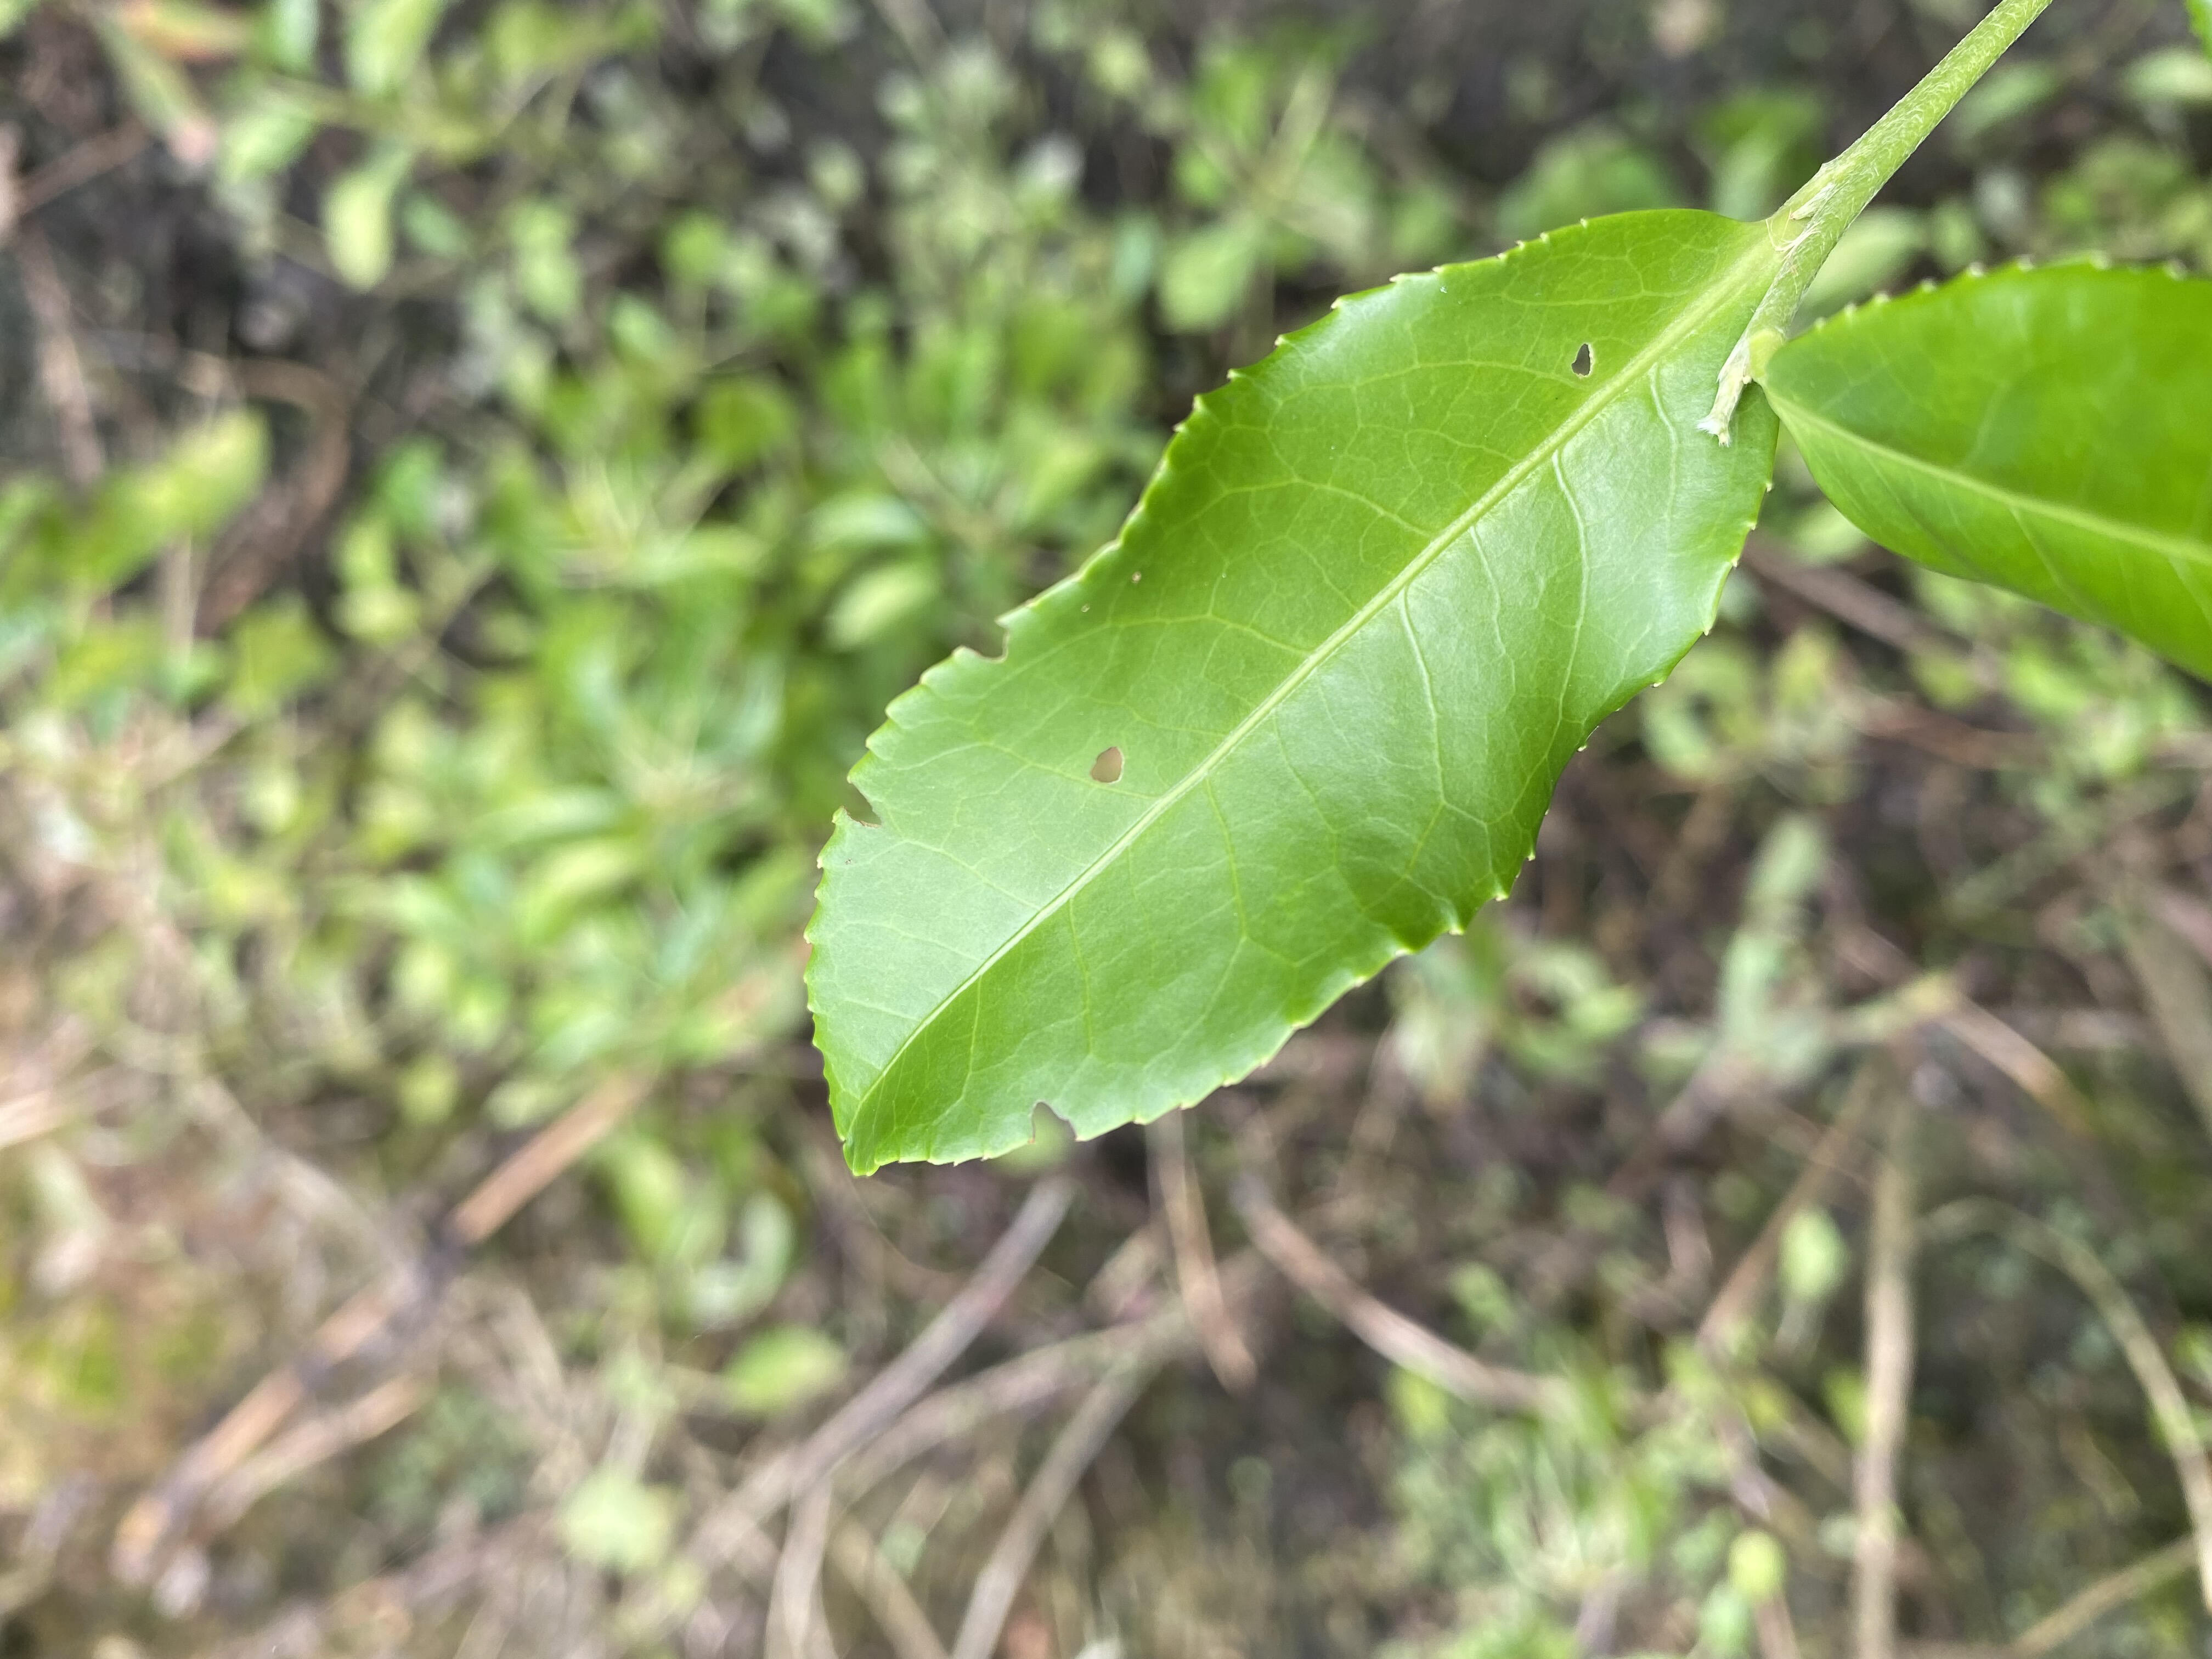chihuo_high: (798, 207, 1782, 1178)
healthy: (1773, 249, 2209, 680)
